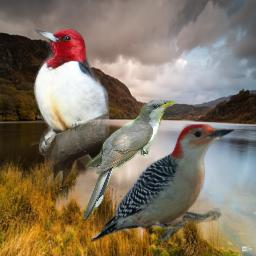Cuckoo: (83, 100, 175, 219)
Woodpecker: (91, 124, 238, 242), (30, 28, 112, 192)
